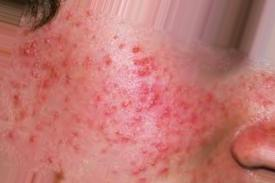Acne: (165, 91, 208, 144), (90, 40, 123, 82), (93, 93, 129, 131), (16, 26, 43, 74), (125, 87, 166, 116), (43, 59, 71, 101), (125, 35, 151, 78), (123, 138, 153, 173)
